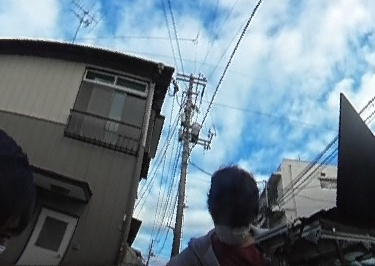person: (183, 165, 269, 266)
